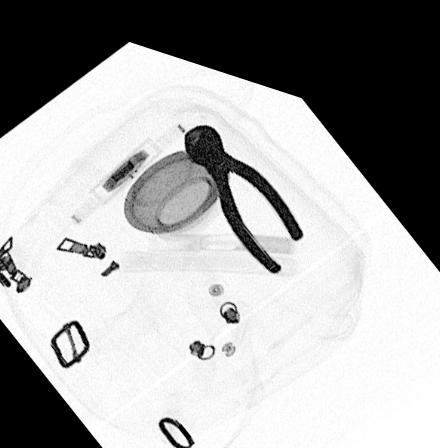Pliers: (177, 104, 305, 266)
